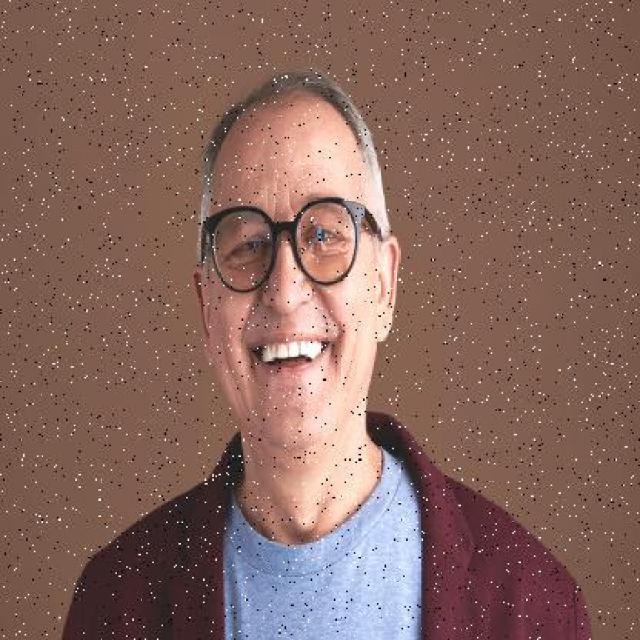glasses: (196, 190, 372, 304)
